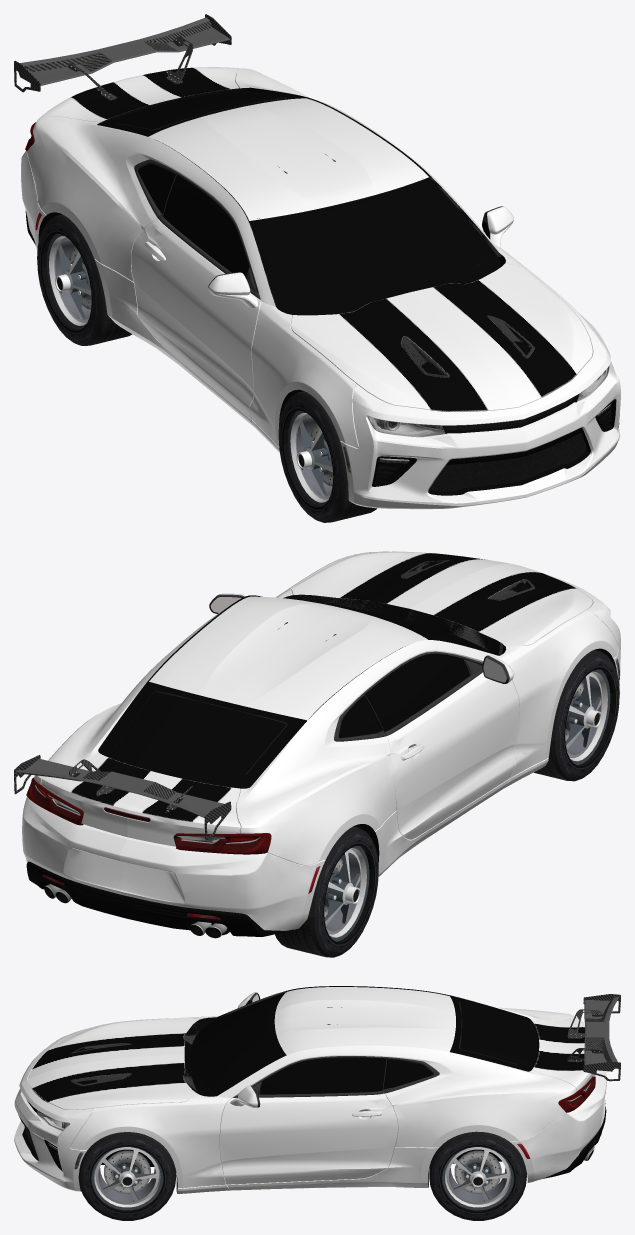
File: Camaro.fbx
3 views of the same model, one above another, from view 1: azimuth 30°, elevation 25°; view 2: azimuth 150°, elevation 25°; view 3: azimuth 270°, elevation 25° (orthographic). The views are drawn at different scales.
Visible parts, largest first — view 1: Car_Color, Window, Exteriors, camaro_int_1, wheel_FR, wheel_RR, Spoiler; view 2: Car_Color, Window, Exteriors, camaro_int_1, wheel_RR, wheel_FR, Spoiler; view 3: Car_Color, Window, wheel_RL, wheel_FL, camaro_int_1, Exteriors, Spoiler, BrakeDisc_2, BrakeDisc.
Part boxes in pixels (x1,y1,x2,y2): Car_Color: (21, 67, 620, 509); Window: (116, 92, 488, 307); Exteriors: (25, 87, 616, 495); camaro_int_1: (100, 90, 534, 377); wheel_FR: (278, 391, 376, 522); wheel_RR: (37, 214, 132, 345); Spoiler: (14, 14, 231, 100); Car_Color: (22, 551, 620, 930); Window: (117, 598, 485, 777); Exteriors: (26, 561, 619, 938); camaro_int_1: (99, 560, 534, 788); wheel_RR: (275, 826, 378, 957); wheel_FR: (534, 650, 619, 781); Spoiler: (14, 755, 231, 840); Car_Color: (14, 987, 606, 1193); Window: (197, 996, 528, 1094); wheel_RL: (429, 1131, 526, 1220); wheel_FL: (78, 1132, 176, 1220); camaro_int_1: (71, 991, 537, 1106); Exteriors: (18, 986, 606, 1192); Spoiler: (567, 994, 620, 1081); BrakeDisc_2: (454, 1150, 501, 1193); BrakeDisc: (104, 1150, 150, 1193).
Size of the model in its own units: 246 by 171 by 590.
